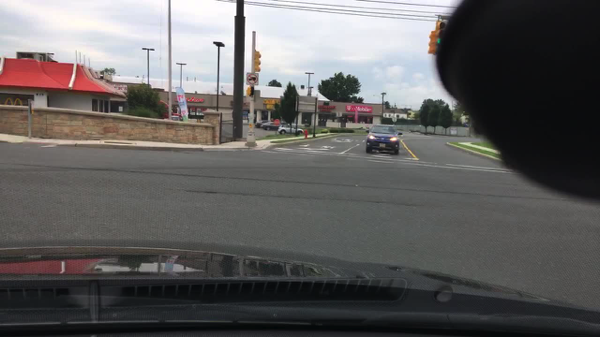car: (364, 124, 402, 155), (260, 121, 289, 130), (278, 125, 304, 135), (254, 119, 273, 127)
traffic light: (432, 21, 447, 56), (425, 29, 433, 54), (255, 49, 260, 72), (245, 87, 255, 97)
traffic sign: (295, 96, 317, 113), (245, 71, 258, 86), (273, 118, 280, 127)
